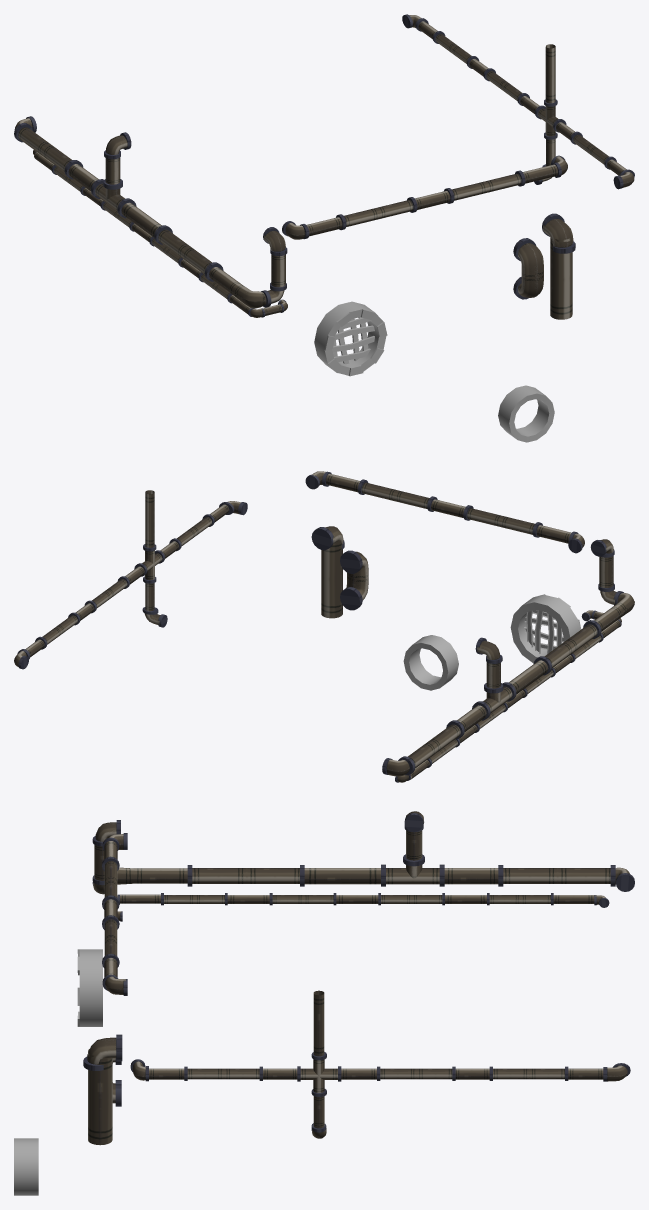
The model's file is Modulo2.fbx.
3 views of the same model, one above another, from view 1: azimuth 30°, elevation 25°; view 2: azimuth 150°, elevation 25°; view 3: azimuth 270°, elevation 25° (orthographic). The views are drawn at different scales.
Visible parts, largest first — view 1: Tubo_Vuelta4, polySurface113, Rejilla6, TuboSimple34, polySurface112, polySurface105, Rejilla7, polySurface109; view 2: Tubo_Vuelta4, polySurface113, TuboSimple34, Rejilla6, polySurface112, polySurface105, Rejilla7, polySurface109; view 3: Tubo_Vuelta4, polySurface113, polySurface105, polySurface112, TuboSimple34, Rejilla6, Rejilla7.
Part boxes in pixels (x1=…): Tubo_Vuelta4: x1=14, y1=116, x2=287, y2=308; polySurface113: x1=402, y1=14, x2=634, y2=189; Rejilla6: x1=314, y1=301, x2=387, y2=376; TuboSimple34: x1=282, y1=155, x2=567, y2=239; polySurface112: x1=542, y1=213, x2=575, y2=319; polySurface105: x1=33, y1=150, x2=287, y2=317; Rejilla7: x1=498, y1=385, x2=554, y2=442; polySurface109: x1=513, y1=238, x2=543, y2=299; Tubo_Vuelta4: x1=382, y1=539, x2=634, y2=776; polySurface113: x1=14, y1=490, x2=247, y2=669; TuboSimple34: x1=305, y1=471, x2=584, y2=553; Rejilla6: x1=510, y1=594, x2=581, y2=663; polySurface112: x1=311, y1=526, x2=344, y2=618; polySurface105: x1=395, y1=610, x2=621, y2=782; Rejilla7: x1=403, y1=635, x2=458, y2=690; polySurface109: x1=340, y1=550, x2=368, y2=610; Tubo_Vuelta4: x1=92, y1=811, x2=634, y2=894; polySurface113: x1=130, y1=990, x2=630, y2=1138; polySurface105: x1=117, y1=893, x2=609, y2=921; polySurface112: x1=83, y1=1034, x2=122, y2=1145; TuboSimple34: x1=102, y1=833, x2=127, y2=995; Rejilla6: x1=77, y1=949, x2=102, y2=1026; Rejilla7: x1=14, y1=1138, x2=38, y2=1195.
Size of the model in its own units: 17742 by 10602 by 20969.
